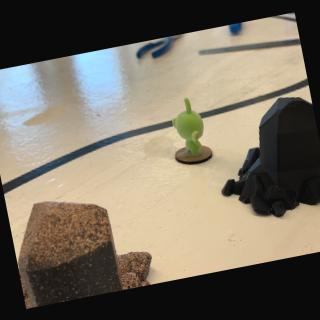teletubby: (172, 97, 203, 155)
